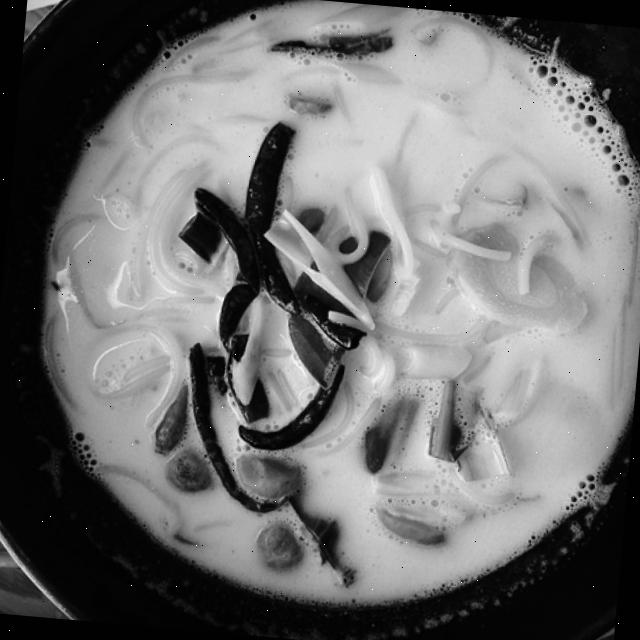汤锅炖物: (0, 0, 637, 627)
